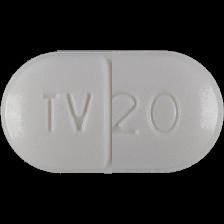63187-750: (0, 0, 224, 224)
